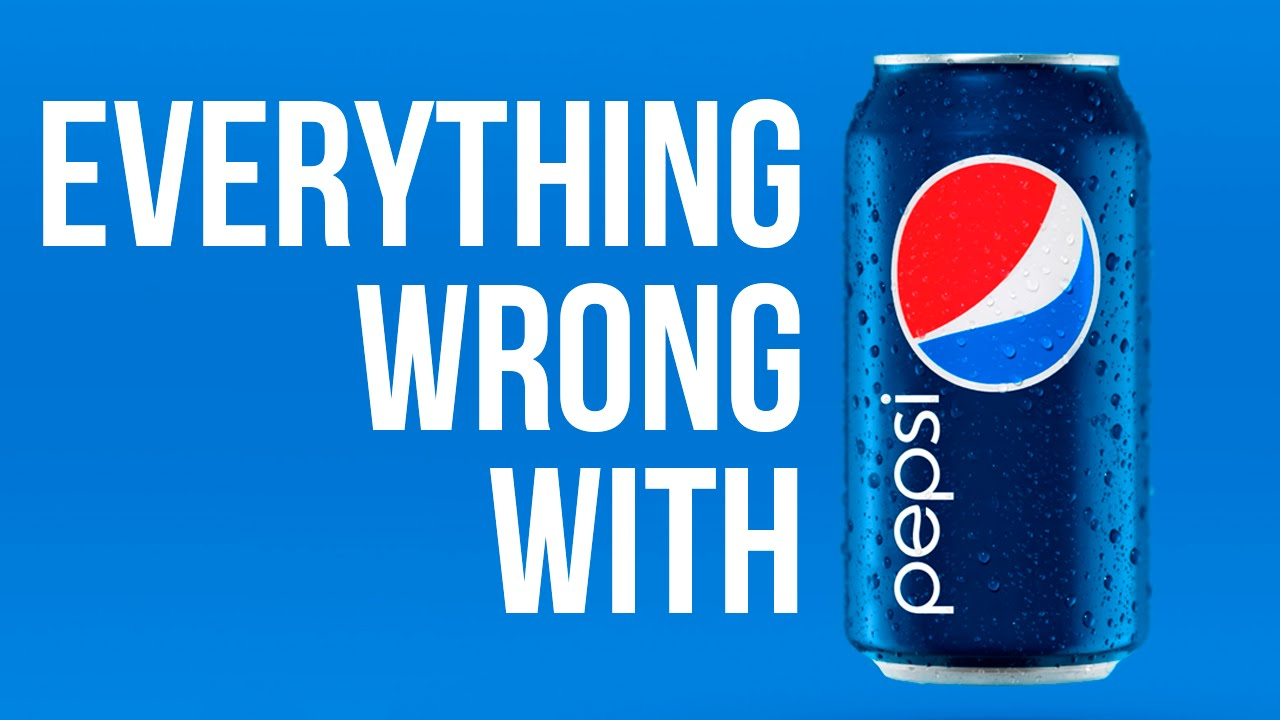pepsi: (879, 150, 1098, 393), (887, 150, 1098, 393)
